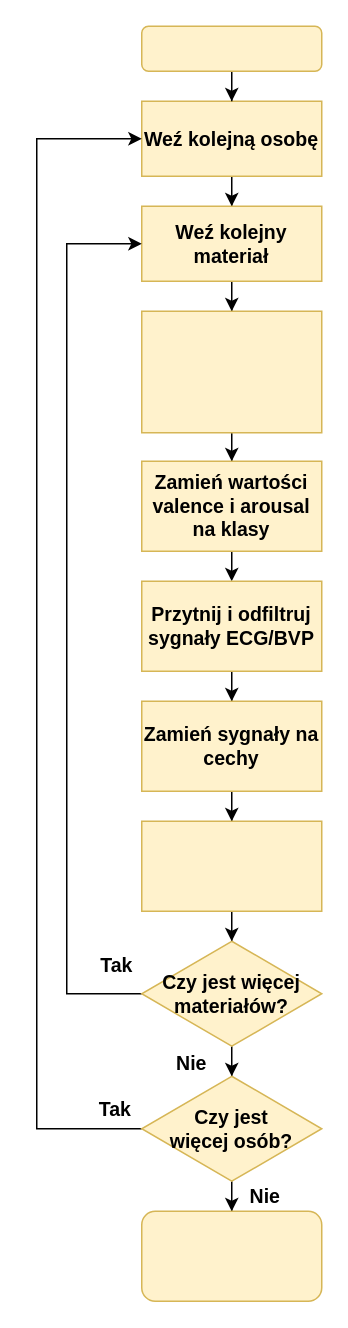
This 348x1328 diagram has some shape labels left out. Each missing label, with the box of its shape:
Dodaj wyniki do listy: (140, 820, 322, 911)
Start: (140, 25, 322, 71)
Wyodrębnij sygnały ECG/BVP oraz wartości valence i arousal: (140, 310, 322, 433)
Zwróć listę: (140, 1210, 322, 1301)
